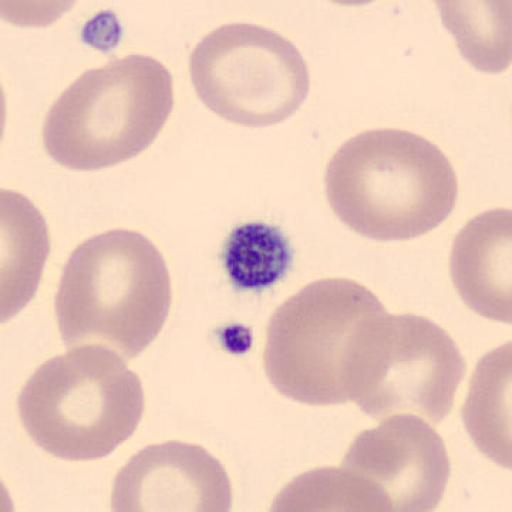Platelet: (216, 218, 299, 295)
RBC: (262, 276, 392, 409), (52, 226, 174, 362), (40, 51, 176, 173), (322, 126, 460, 244), (16, 341, 146, 463), (345, 310, 467, 430), (187, 20, 312, 130), (338, 412, 452, 512), (110, 437, 234, 512), (448, 205, 512, 325), (1, 186, 52, 324), (337, 314, 404, 417), (461, 338, 512, 473), (262, 464, 398, 512), (434, 0, 512, 75), (1, 0, 84, 30), (0, 469, 17, 512)
